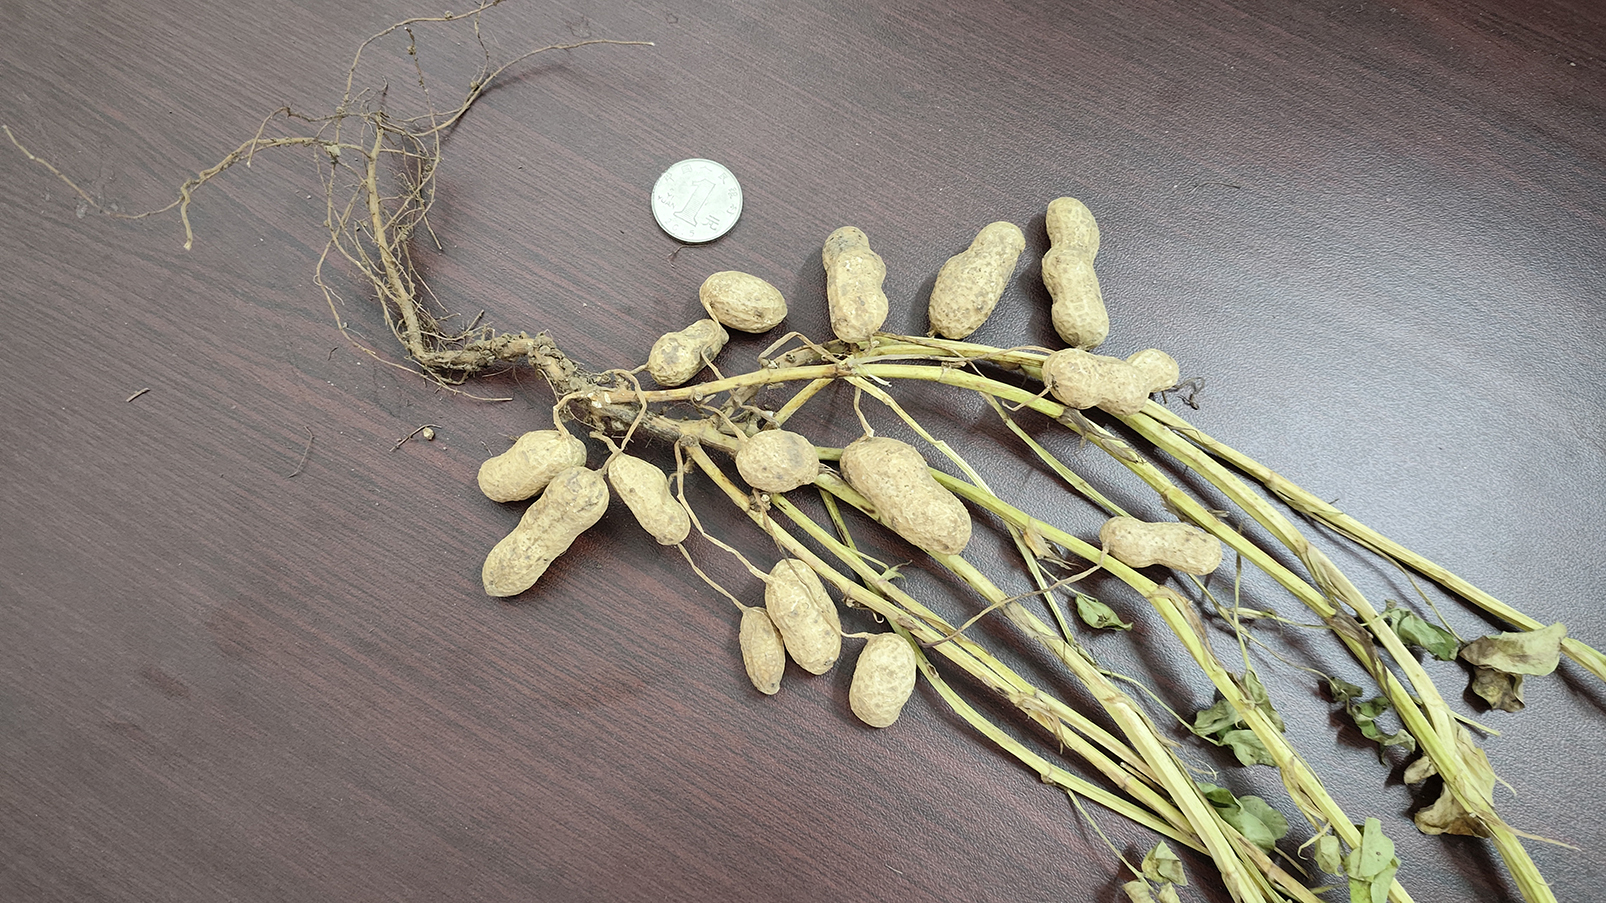h: (839, 434, 972, 558), (486, 466, 609, 598), (927, 219, 1027, 338), (1039, 196, 1111, 346), (1040, 348, 1180, 415), (765, 559, 841, 675), (474, 427, 589, 502), (822, 224, 890, 343), (606, 451, 690, 545), (1100, 516, 1223, 574), (848, 631, 917, 725), (647, 318, 730, 387), (700, 270, 788, 332), (738, 431, 818, 492), (740, 605, 784, 695)
